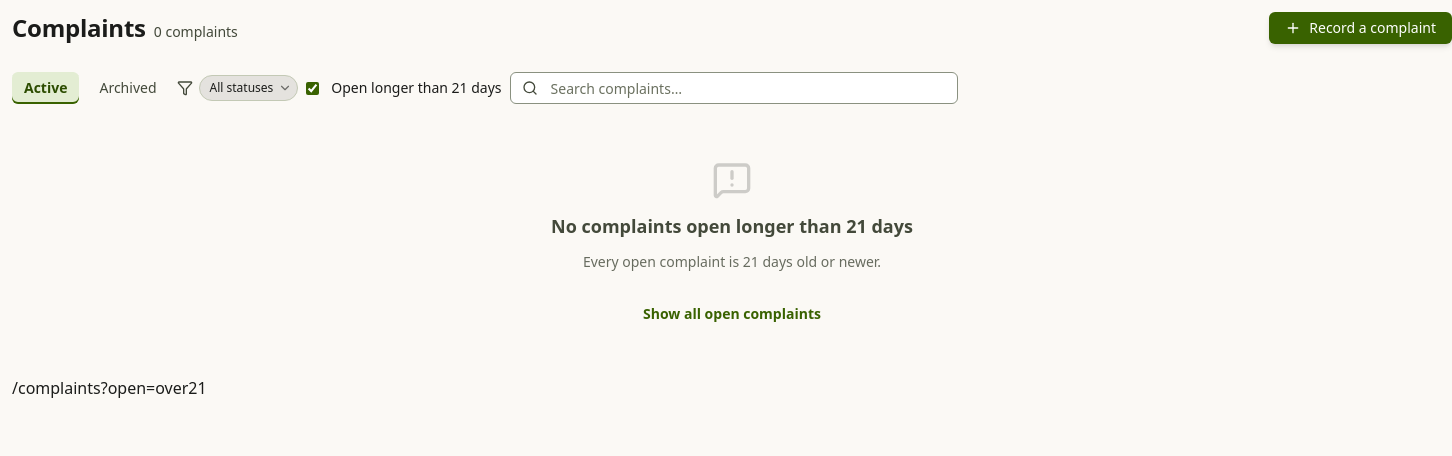
ComplaintsPage › over-21 filter with nothing: its own copy, and Show all open complaints clears it
Check: the text "No complaints open longer than 21 days" is shown, box [551,212,913,240]
Check: the text "Every open complaint is 21 days old or newer." is shown, box [583,252,881,272]
Click the button "Show all open complaints" at (732, 314), box [635,292,829,336]
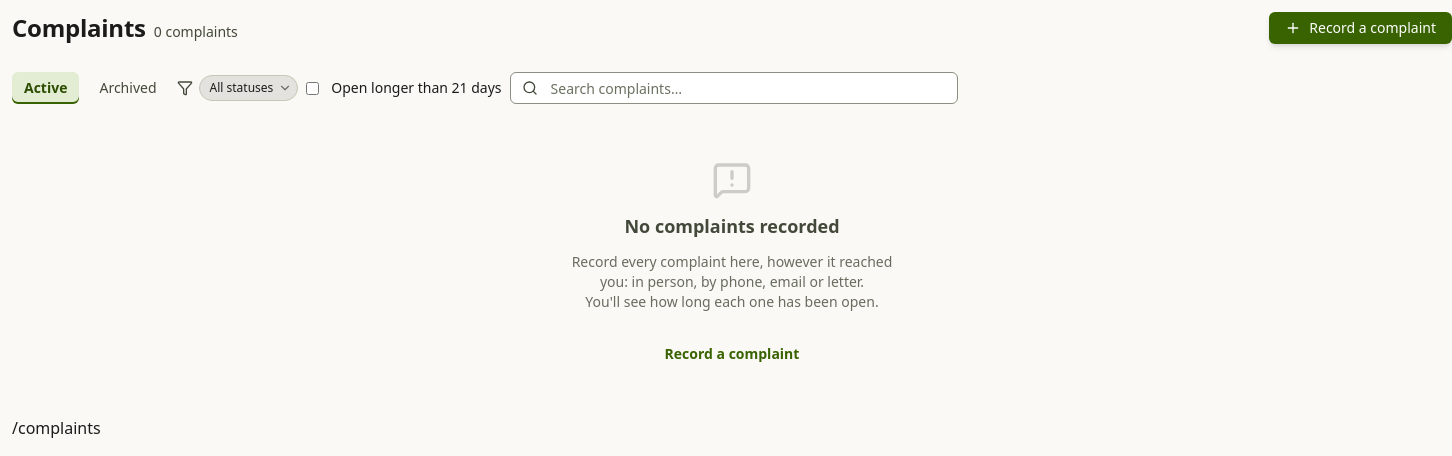
Check: the text with test id "where" reads "/complaints", box [12,417,101,439]
